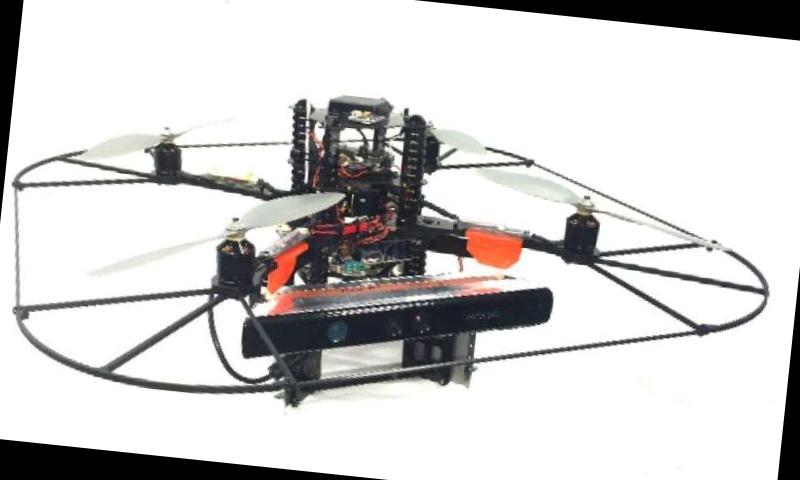drone: (23, 73, 778, 420)
